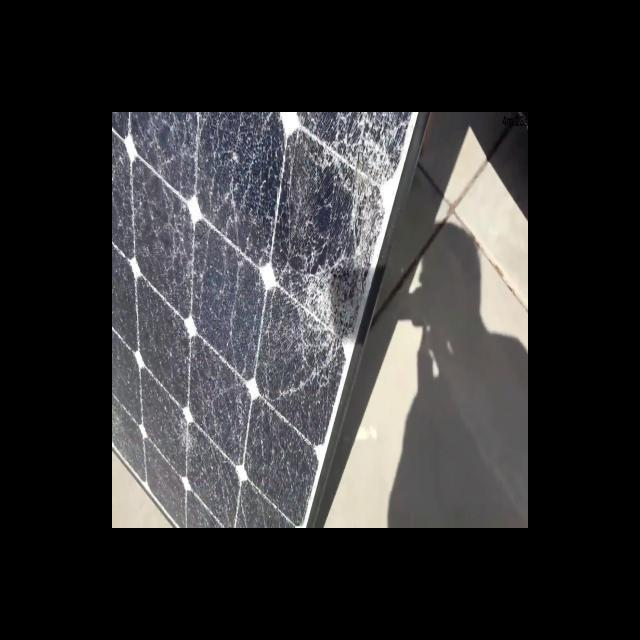Anomaly Solar Panel: (113, 112, 418, 529)
Structural Damage: (292, 114, 398, 258), (284, 262, 362, 358)
